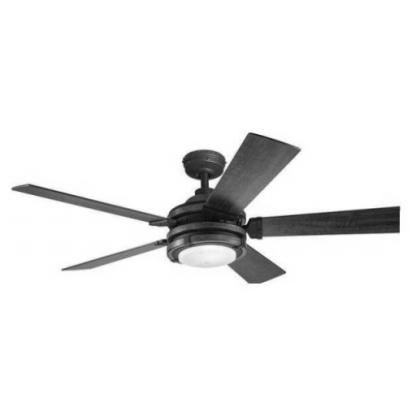ceiling-fan: (11, 132, 400, 284)
